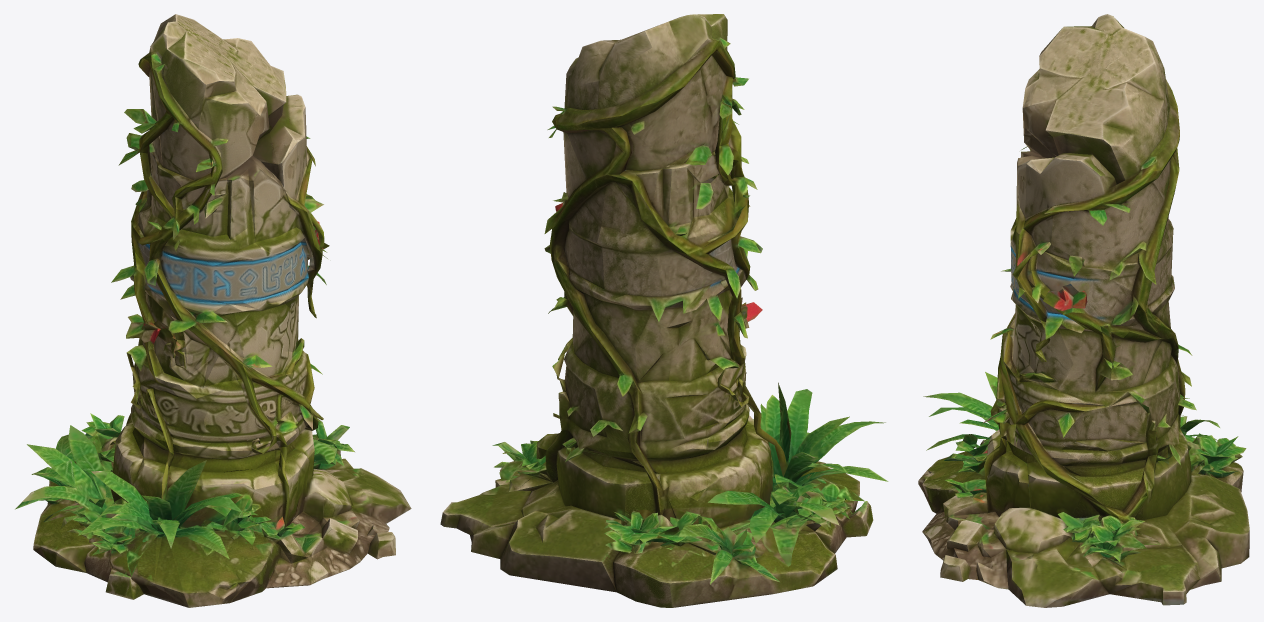
File: jungle_pillar.glb
3 renders of one model, left to right at view 1: azimuth 30°, elevation 25°; view 2: azimuth 150°, elevation 25°; view 3: azimuth 270°, elevation 25°, orthographic. The views are drawn at different scales.
Bounding box in the file's own units: 1.38 × 1.9 × 1.15.
1 material, 1 textured.
